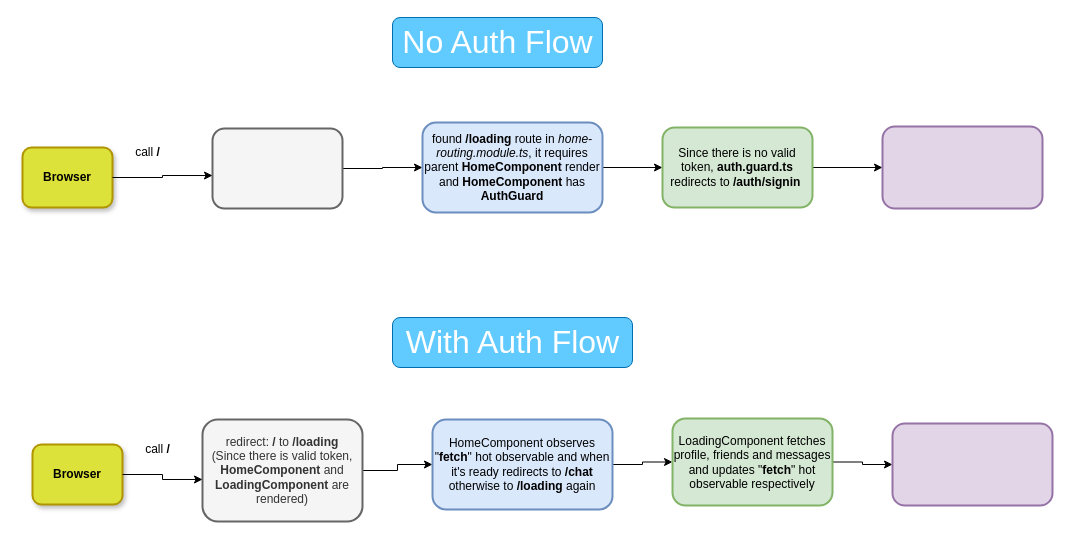
The diagram is 1070 pixels wide and 540 high, and some of its shapes have lost their labels. Each missing label, with the centre of its shape:
if " fetch" hot observable is ready, ChatComponent is rendered: point 972,464
on SignInComponent after successful signin, it redirects to /: point 962,167
redirect: / to /loading (No component rendered yet): point 277,168
